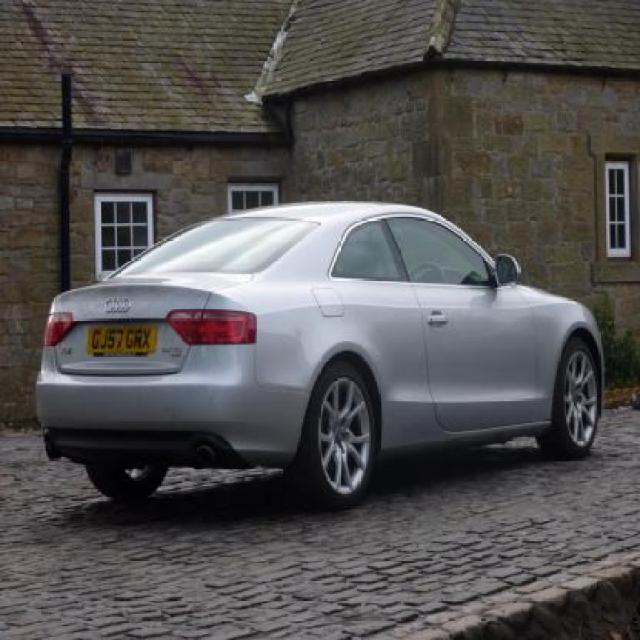License-Plates: (86, 324, 158, 353)
